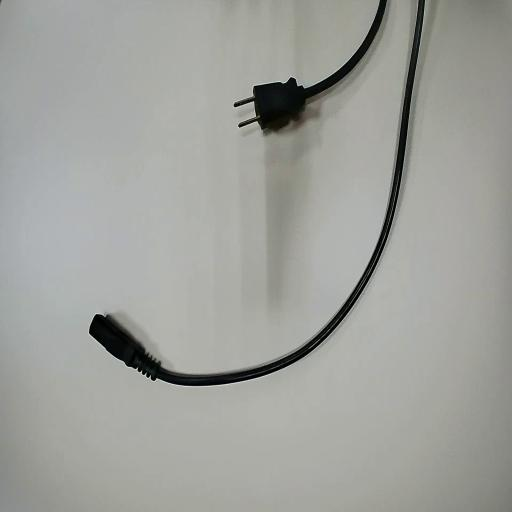wire: (90, 0, 423, 384), (236, 0, 386, 130)
